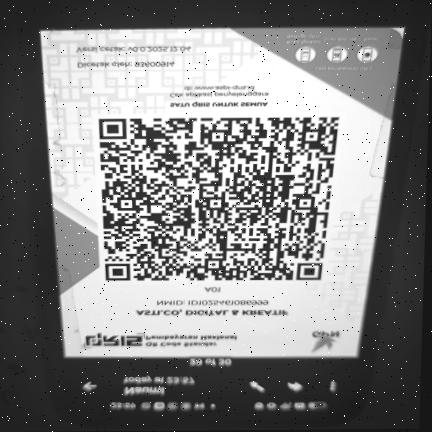Cara Pakai QRIS: (277, 29, 400, 74)
Cek Aplikasi Penyelenggara: (163, 83, 276, 99)
Dicetak Oleh: (72, 59, 181, 72)
Logo GPN: (304, 328, 343, 353)
Logo dan deskripsi QRIS: (76, 329, 245, 352)
Nama Merchant: (130, 308, 295, 318)
National Merchant ID: (152, 298, 274, 307)
QR Code: (93, 113, 344, 283)
Slogan: (164, 100, 275, 110)
Terminal ID: (202, 285, 224, 295)
Versi Cetak: (72, 43, 196, 58)
